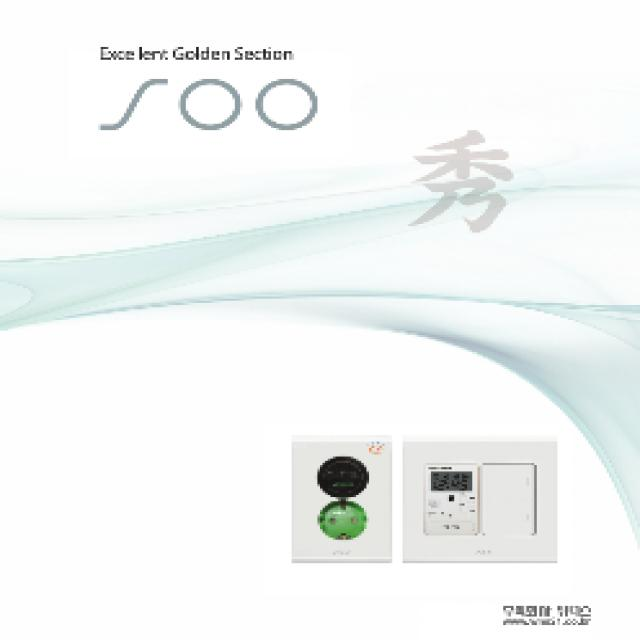typeb: (265, 422, 399, 574)
